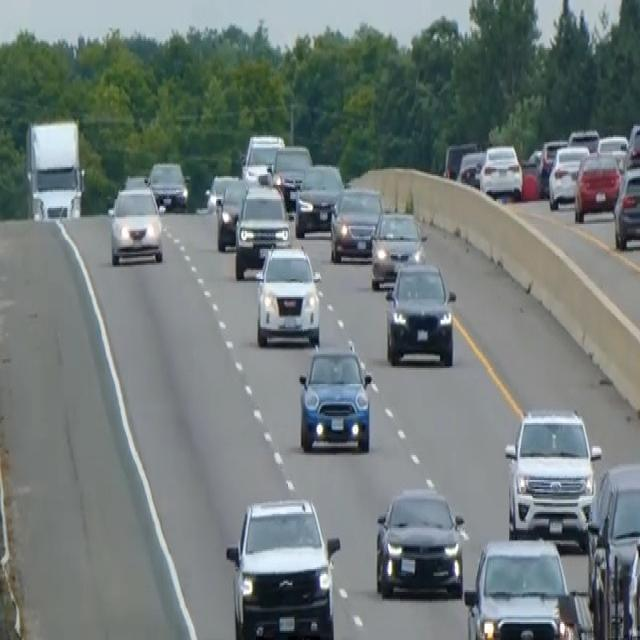car: (224, 494, 341, 638), (503, 404, 601, 538), (463, 535, 582, 638), (374, 485, 465, 599), (586, 459, 639, 638), (297, 342, 372, 454), (384, 260, 456, 366), (254, 240, 322, 347), (234, 183, 290, 279), (108, 181, 163, 265), (370, 208, 426, 288), (329, 183, 382, 261), (294, 160, 344, 238), (573, 148, 621, 222), (547, 142, 589, 210), (214, 176, 251, 251), (270, 142, 312, 208), (478, 142, 523, 199), (613, 162, 639, 249), (241, 132, 284, 182), (148, 158, 188, 210), (622, 523, 639, 638), (537, 137, 567, 195), (442, 138, 478, 180), (204, 169, 238, 213), (596, 131, 628, 169), (520, 146, 543, 197), (456, 149, 484, 187), (567, 126, 599, 153), (123, 171, 150, 190)
lorry: (23, 116, 85, 222)
